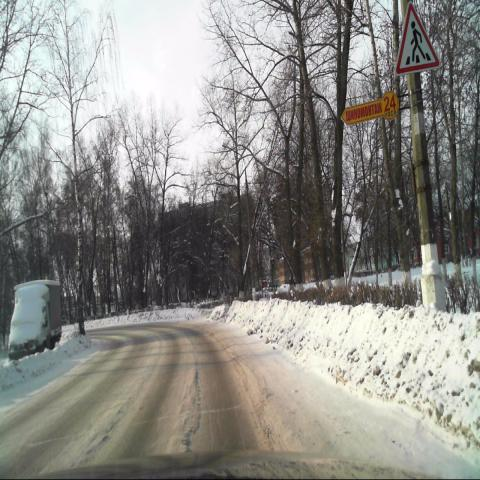1_22: (396, 2, 440, 73)
